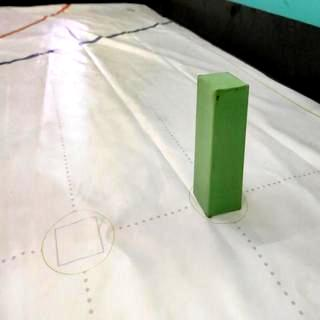greenbox: (193, 72, 251, 218)
